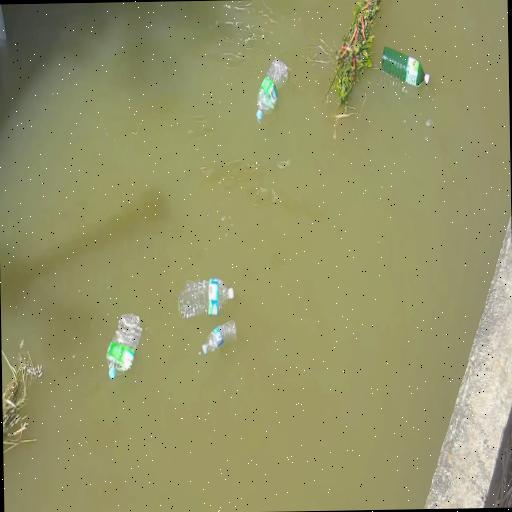plastic: (380, 40, 434, 102), (100, 308, 144, 382), (176, 270, 236, 322), (253, 58, 295, 124), (198, 315, 238, 354)
twig: (324, 0, 383, 116), (2, 344, 40, 454)
